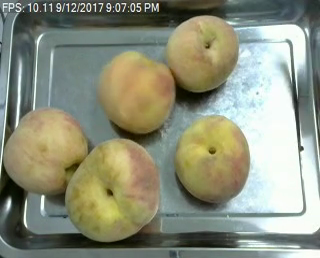Peach: (65, 139, 158, 244), (4, 107, 85, 193), (173, 114, 251, 203), (96, 48, 174, 134), (164, 15, 240, 94)
